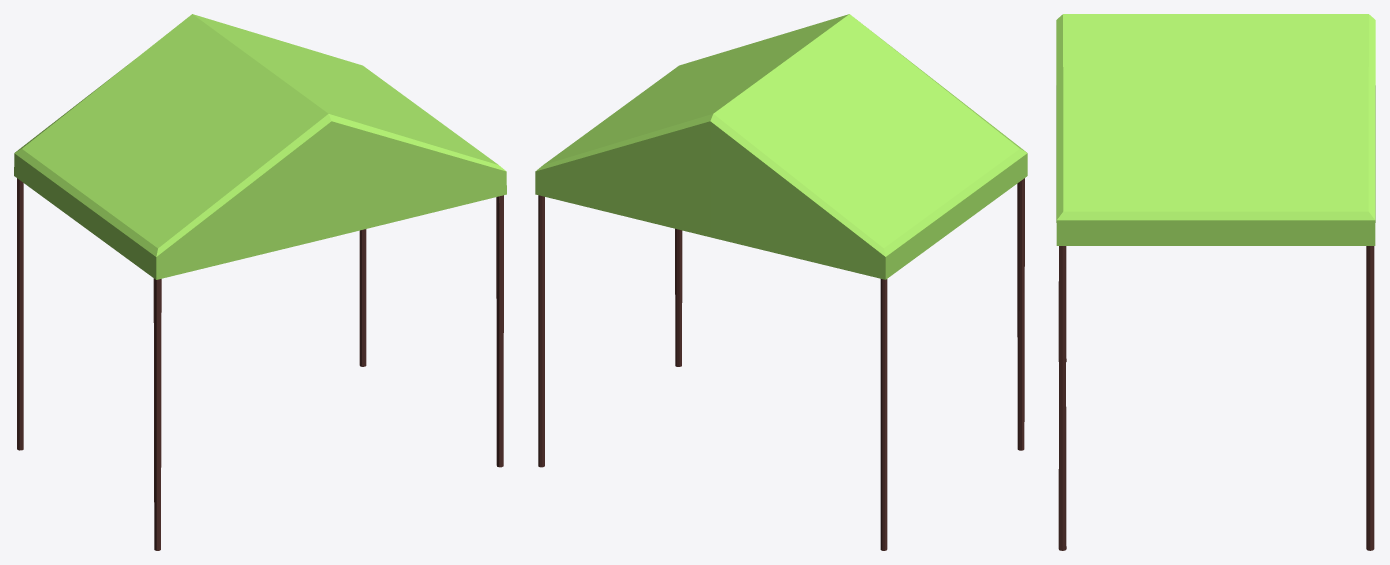
File: Carpa03.fbx
3 views of the same model, side by side, from view 1: azimuth 30°, elevation 25°; view 2: azimuth 150°, elevation 25°; view 3: azimuth 270°, elevation 25° (orthographic). The views are drawn at different scales.
Visible parts, largest first — view 1: Carpa3.001; view 2: Carpa3.001; view 3: Carpa3.001.
Boxes of the visible parts, <box> form: Carpa3.001: <box>14,14,506,550</box>; Carpa3.001: <box>535,14,1027,550</box>; Carpa3.001: <box>1056,14,1375,550</box>.
Size of the model in its own units: 307 by 330 by 216.
